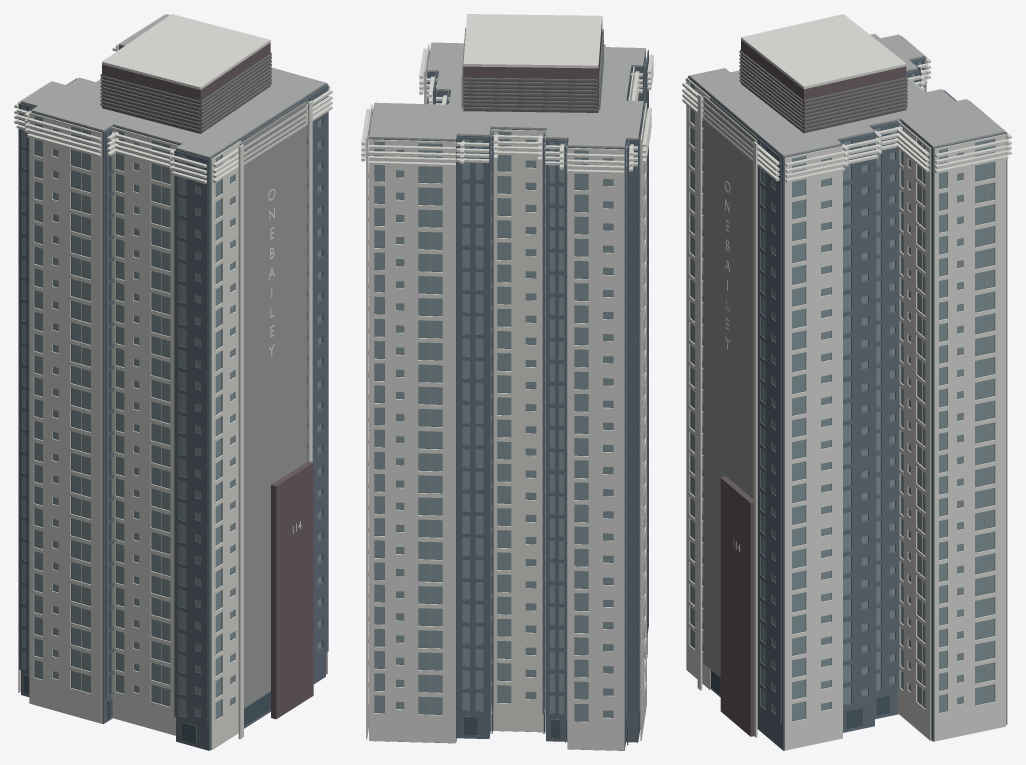
Rendered from bespoke-raemian-onebailey-114.glb.
3 renders of one model, left to right at view 1: azimuth 30°, elevation 25°; view 2: azimuth 150°, elevation 25°; view 3: azimuth 270°, elevation 25°, orthographic.
Parts seen in each view (by area): view 1: 114_pale_bays_navy_shafts001_4, 114_editable_massing001, 114_pale_bays_navy_shafts001, 114_pale_bays_navy_shafts001_6, 114_editable_massing001_1, 114_glass_roof_crown001_2, 114_pale_bays_navy_shafts001_5, 114_pale_bays_navy_shafts001_1, 114_pale_bays_navy_shafts001_2; view 2: 114_pale_bays_navy_shafts001_4, 114_pale_bays_navy_shafts001, 114_editable_massing001, 114_glass_roof_crown001_2, 114_editable_massing001_1, 114_pale_bays_navy_shafts001_5, 114_pale_bays_navy_shafts001_2, 114_pale_bays_navy_shafts001_1; view 3: 114_pale_bays_navy_shafts001_4, 114_editable_massing001, 114_pale_bays_navy_shafts001, 114_pale_bays_navy_shafts001_6, 114_editable_massing001_1, 114_glass_roof_crown001_2, 114_pale_bays_navy_shafts001_5, 114_pale_bays_navy_shafts001_2, 114_pale_bays_navy_shafts001_1.
Boxes of the visible parts, <box> form: 114_pale_bays_navy_shafts001_4: <box>14,14,332,749</box>; 114_editable_massing001: <box>19,46,328,750</box>; 114_pale_bays_navy_shafts001: <box>23,100,321,718</box>; 114_pale_bays_navy_shafts001_6: <box>239,102,306,707</box>; 114_editable_massing001_1: <box>102,42,313,719</box>; 114_glass_roof_crown001_2: <box>21,14,325,158</box>; 114_pale_bays_navy_shafts001_5: <box>23,52,299,744</box>; 114_pale_bays_navy_shafts001_1: <box>23,674,270,744</box>; 114_pale_bays_navy_shafts001_2: <box>81,129,161,703</box>; 114_pale_bays_navy_shafts001_4: <box>361,14,653,750</box>; 114_pale_bays_navy_shafts001: <box>369,49,645,721</box>; 114_editable_massing001: <box>369,50,648,750</box>; 114_glass_roof_crown001_2: <box>369,42,645,148</box>; 114_editable_massing001_1: <box>463,19,602,112</box>; 114_pale_bays_navy_shafts001_5: <box>461,27,647,744</box>; 114_pale_bays_navy_shafts001_2: <box>368,79,643,714</box>; 114_pale_bays_navy_shafts001_1: <box>464,640,647,745</box>; 114_pale_bays_navy_shafts001_4: <box>682,14,1011,750</box>; 114_editable_massing001: <box>688,57,1004,750</box>; 114_pale_bays_navy_shafts001: <box>691,61,994,720</box>; 114_pale_bays_navy_shafts001_6: <box>703,96,757,677</box>; 114_editable_massing001_1: <box>720,40,906,736</box>; 114_glass_roof_crown001_2: <box>689,34,1004,157</box>; 114_pale_bays_navy_shafts001_5: <box>710,50,907,729</box>; 114_pale_bays_navy_shafts001_2: <box>921,140,984,705</box>; 114_pale_bays_navy_shafts001_1: <box>710,670,890,729</box>.
Size of the model in its own units: 36.37 by 85.15 by 39.62.
